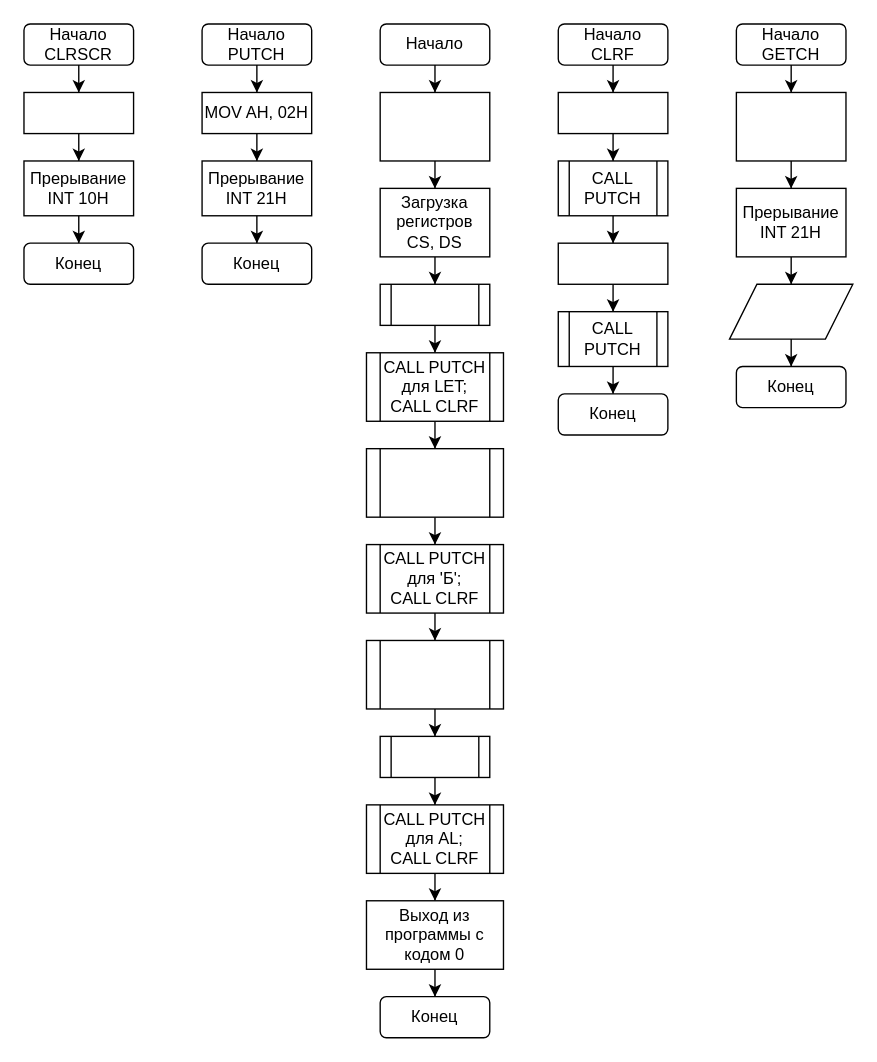
The diagram is 877 pixels wide and 1062 high, and some of its shapes have lost their labels. Here are the shapes that lost their labels. From the top down, the box of each, then its label:
(23, 91, 134, 134): MOV AH, 0H
(379, 91, 490, 161): Объявление переменной LET
(557, 91, 668, 134): MOV DL, 10
(735, 91, 846, 161): MOV AH, 8 H
(557, 242, 668, 284): MOV DL, 13
(379, 283, 490, 325): CALL CLRSCR
(728, 283, 853, 339): Ввод символа
(365, 447, 503, 517): CALL PUTCH для 'А'; CALL CLRF
(365, 639, 503, 709): CALL PUTCH для 'В'; CALL CLRF
(379, 735, 490, 777): CALL GETCH
